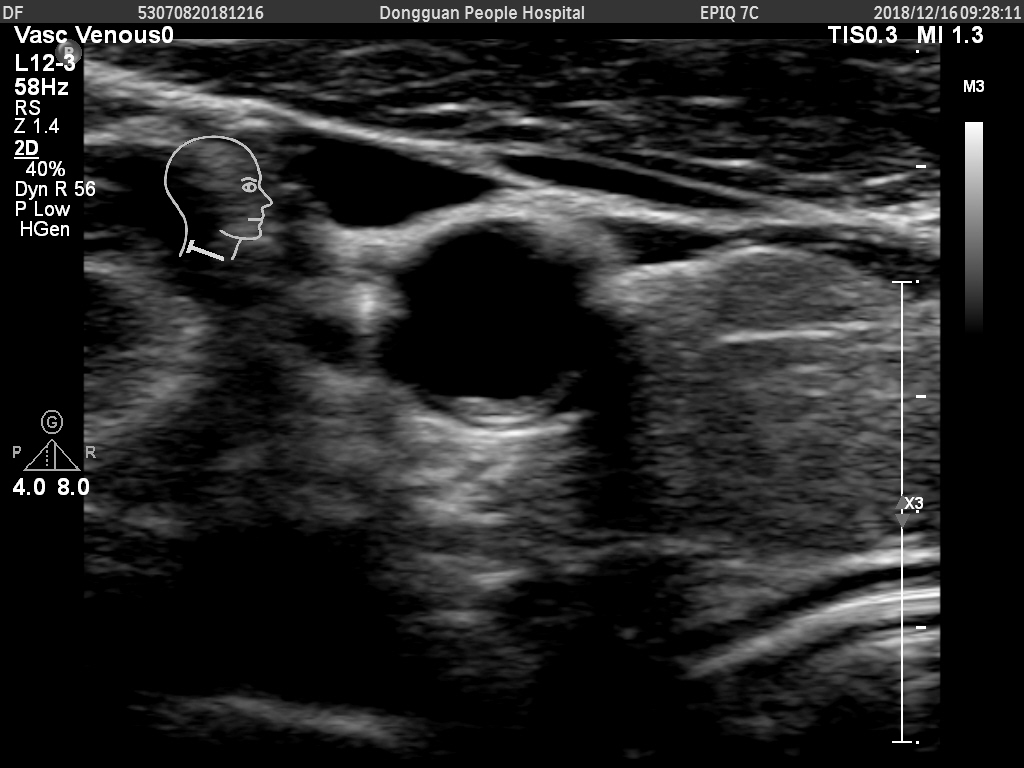sclerosis: (417, 365, 592, 432)
vessel: (367, 200, 621, 438)
